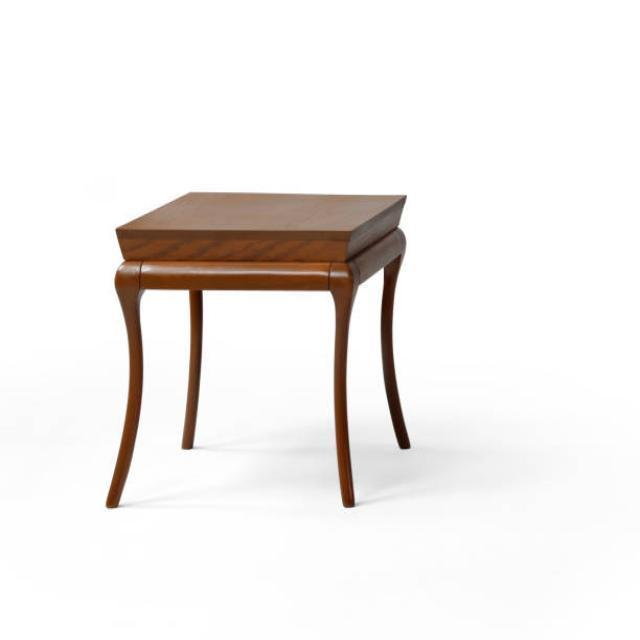table: (105, 190, 412, 510)
